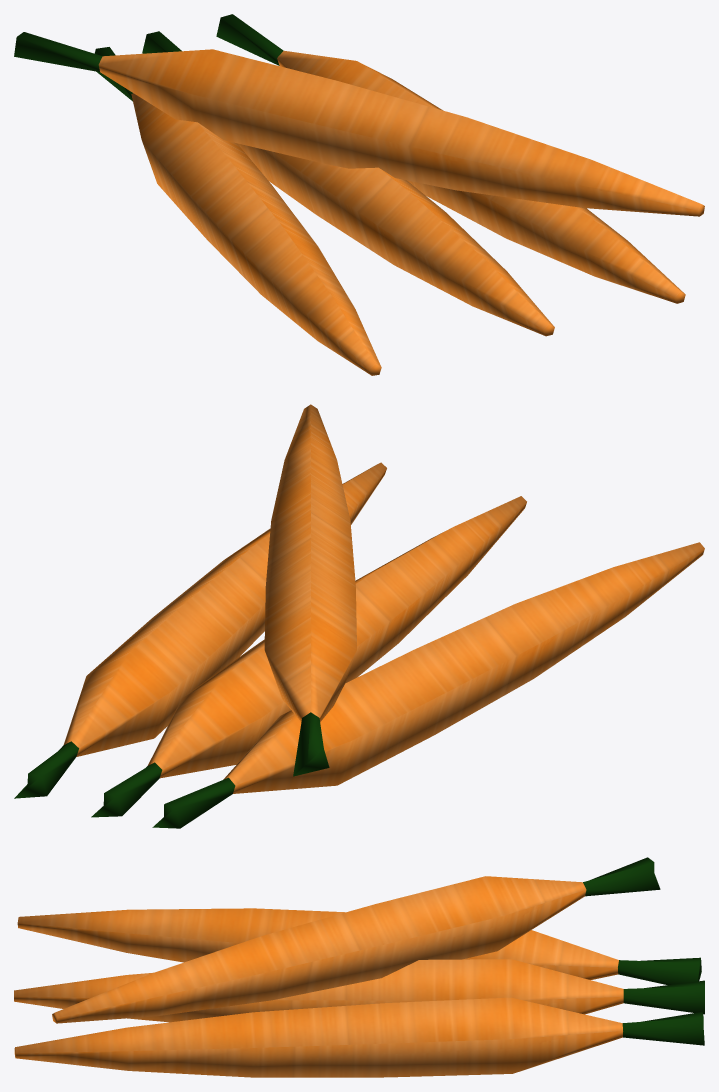
Rendered from Carrots.fbx.
3 renders of one model, top to bottom at view 1: azimuth 30°, elevation 25°; view 2: azimuth 150°, elevation 25°; view 3: azimuth 270°, elevation 25°, orthographic. The views are drawn at different scales.
Parts seen in each view (by area): view 1: Carrott.003, Carrott.002, Carrott, Carrott.001, CarrottTop.003, CarrottTop.001, CarrottTop; view 2: Carrott.002, Carrott.003, Carrott.001, Carrott, CarrottTop.002, CarrottTop, CarrottTop.001, CarrottTop.003; view 3: Carrott.001, Carrott.003, Carrott, Carrott.002, CarrottTop.001, CarrottTop, CarrottTop.002, CarrottTop.003.
Boxes of the visible parts, box(x1,y1,x2,y2) form: Carrott.003: box(98, 49, 704, 216); Carrott.002: box(131, 93, 381, 375); Carrott: box(237, 143, 554, 336); Carrott.001: box(277, 50, 685, 303); CarrottTop.003: box(14, 32, 102, 71); CarrottTop.001: box(216, 14, 283, 65); CarrottTop: box(142, 31, 181, 53); Carrott.002: box(223, 542, 704, 793); Carrott.003: box(264, 404, 356, 721); Carrott.001: box(63, 462, 386, 756); Carrott: box(147, 496, 526, 778); CarrottTop.002: box(152, 777, 235, 828); CarrottTop: box(91, 762, 162, 817); CarrottTop.001: box(14, 741, 78, 798); CarrottTop.003: box(293, 712, 329, 776); Carrott.001: box(14, 997, 622, 1077); Carrott.003: box(52, 876, 586, 1023); Carrott: box(14, 959, 623, 1022); Carrott.002: box(17, 908, 618, 979); CarrottTop.001: box(622, 1012, 704, 1045); CarrottTop: box(623, 980, 704, 1014); CarrottTop.002: box(618, 957, 701, 985); CarrottTop.003: box(583, 857, 660, 896).
Bounding box in the file's own units: 17.9 × 6.5 × 34.
